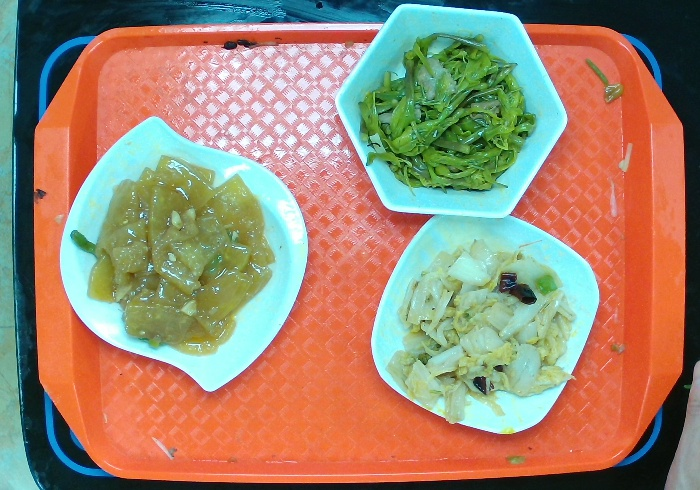RJxy-Liu_Jiao_Wan: (330, 1, 570, 224)
RJxy-Shuang_Jiao_Pan: (58, 113, 313, 397)
RJxy-Si_Fang_Wan: (363, 208, 606, 436)
